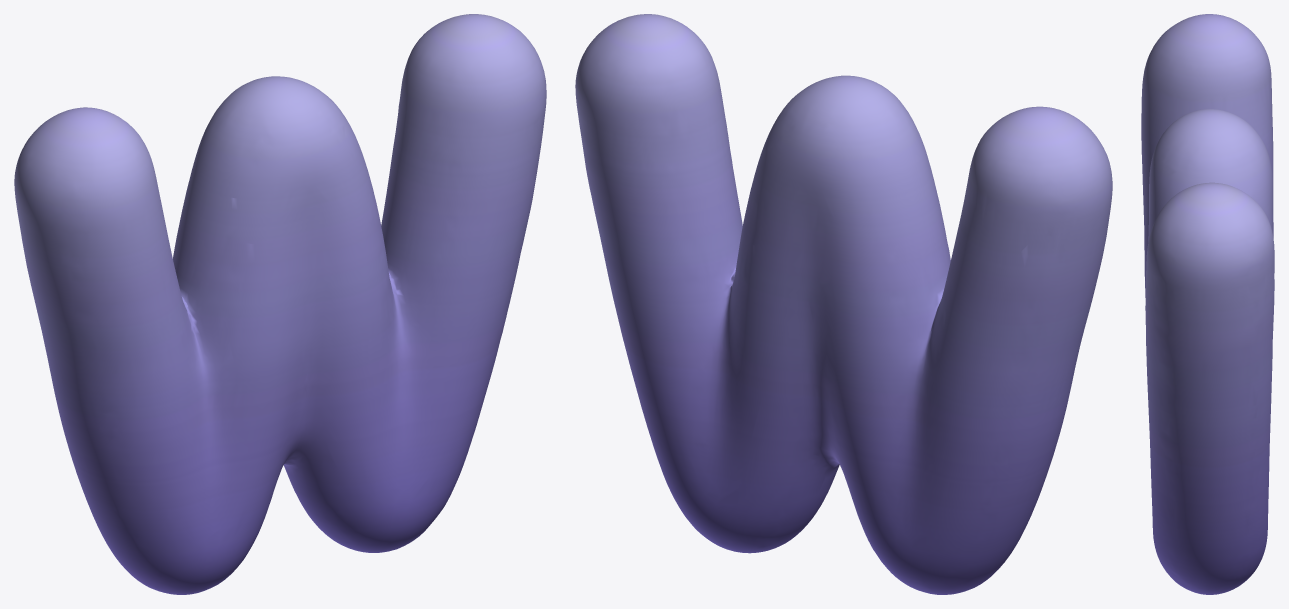
The picture shows the model from 3 angles, left to right: view 1: azimuth 30°, elevation 25°; view 2: azimuth 150°, elevation 25°; view 3: azimuth 270°, elevation 25°; orthographic projection. The views are drawn at different scales.
Parts seen in each view (by area): view 1: W; view 2: W; view 3: W.
Boxes of the visible parts, x1,y1,x2,y2 form: W: (14, 14, 546, 594); W: (575, 14, 1112, 594); W: (1141, 14, 1274, 594).
Bounding box in the file's own units: 7.38 × 6.91 × 1.87.
1 material, 1 textured.
